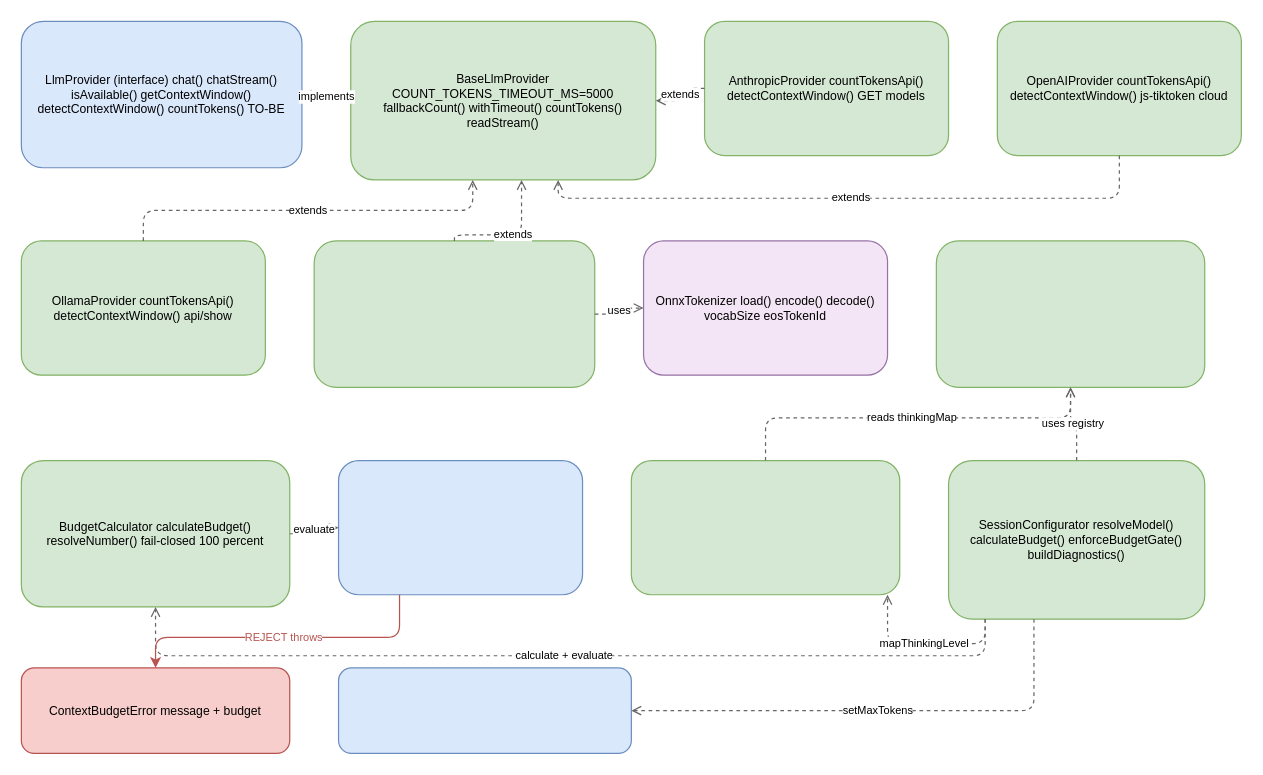
This 1263x775 diagram has some shape labels left out. The shapes that lost their labels are listed below. From the top down, each one's box as (x1, y1, x2, y2) in pixels, then its label:
(313, 240, 595, 387): OnnxProvider type=onnx TO-BE countTokens() isAvailable() ensureLoaded()
(935, 240, 1205, 387): ModelRegistry get() listModels() validate() 9 seed entries
(337, 459, 583, 595): ThresholdGate evaluate() 95 REJECT 85 WARN ALLOW
(630, 459, 900, 595): ThinkingLevelMapper map() resolveLevel() throw invalid TO-BE
(337, 667, 631, 753): ContextUsageTracker updateFromMessages() getUsagePayload() async TO-BE
